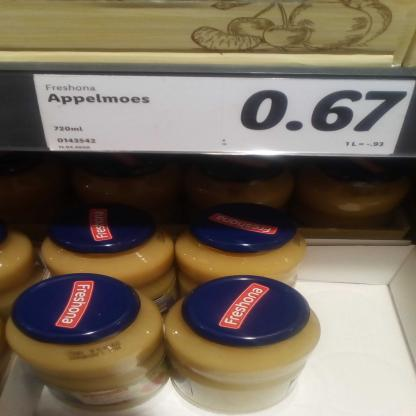prtg: (34, 75, 416, 155)
